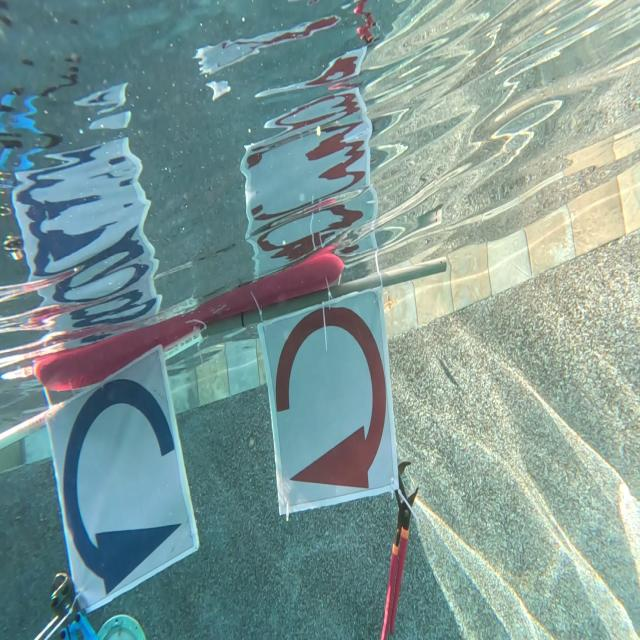blue_side: (57, 372, 190, 604)
red_side: (274, 301, 389, 500)
